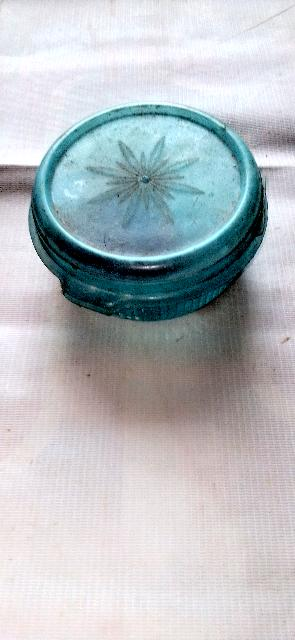hardplastic: (29, 95, 265, 303)
